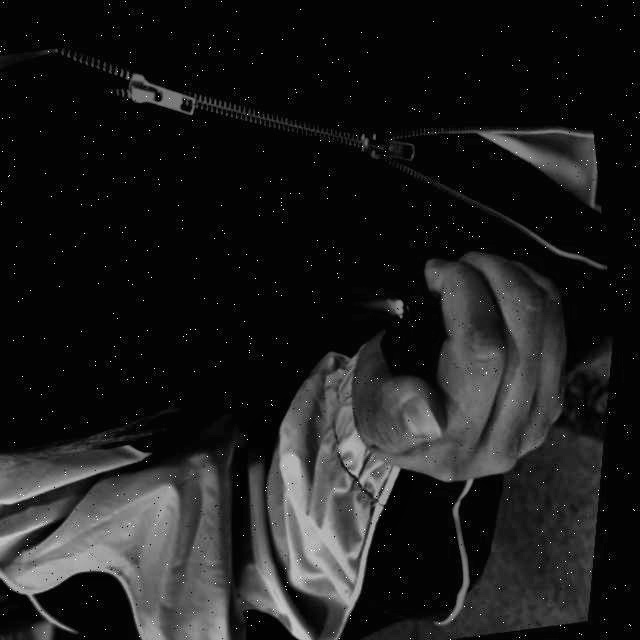Fire: (335, 281, 411, 322)
